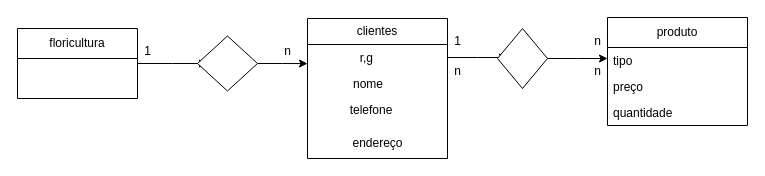
Some shapes in this 765 by 176 pixel diagram are drawn without their labels. The centre of each missing label's shape, as x and y in pixels:
"compra" goes at (x=522, y=58).
"tem" goes at (x=227, y=63).
